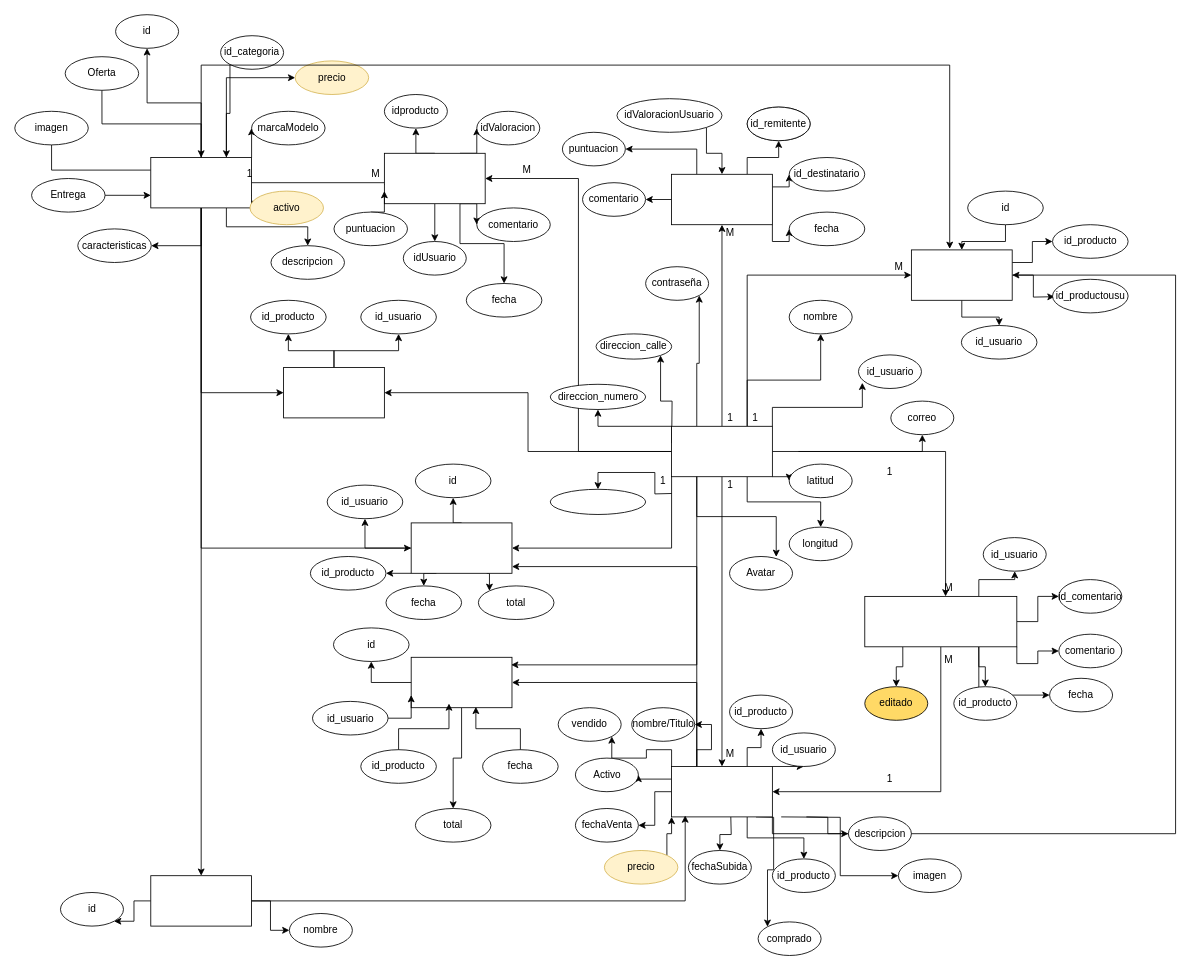
Image size: 1197x970. Some labels were removed from this diagram. Here are the shapes that lost their labels. From the top down, the box of each, then its label:
(150, 157, 252, 208): Productos
(384, 152, 485, 204): Valoraciones
(671, 173, 772, 225): ValoracionesUsuarios
(911, 249, 1012, 300): Favoritos
(283, 367, 384, 418): Carrito
(671, 425, 772, 477): Usuarios
(549, 488, 646, 514): codigo_postal
(410, 522, 512, 573): Compras
(864, 596, 1017, 647): ComentariosSegundaMano
(410, 656, 512, 708): Ventas
(671, 766, 772, 817): Productos SegundaMano
(150, 875, 252, 926): Categoria
